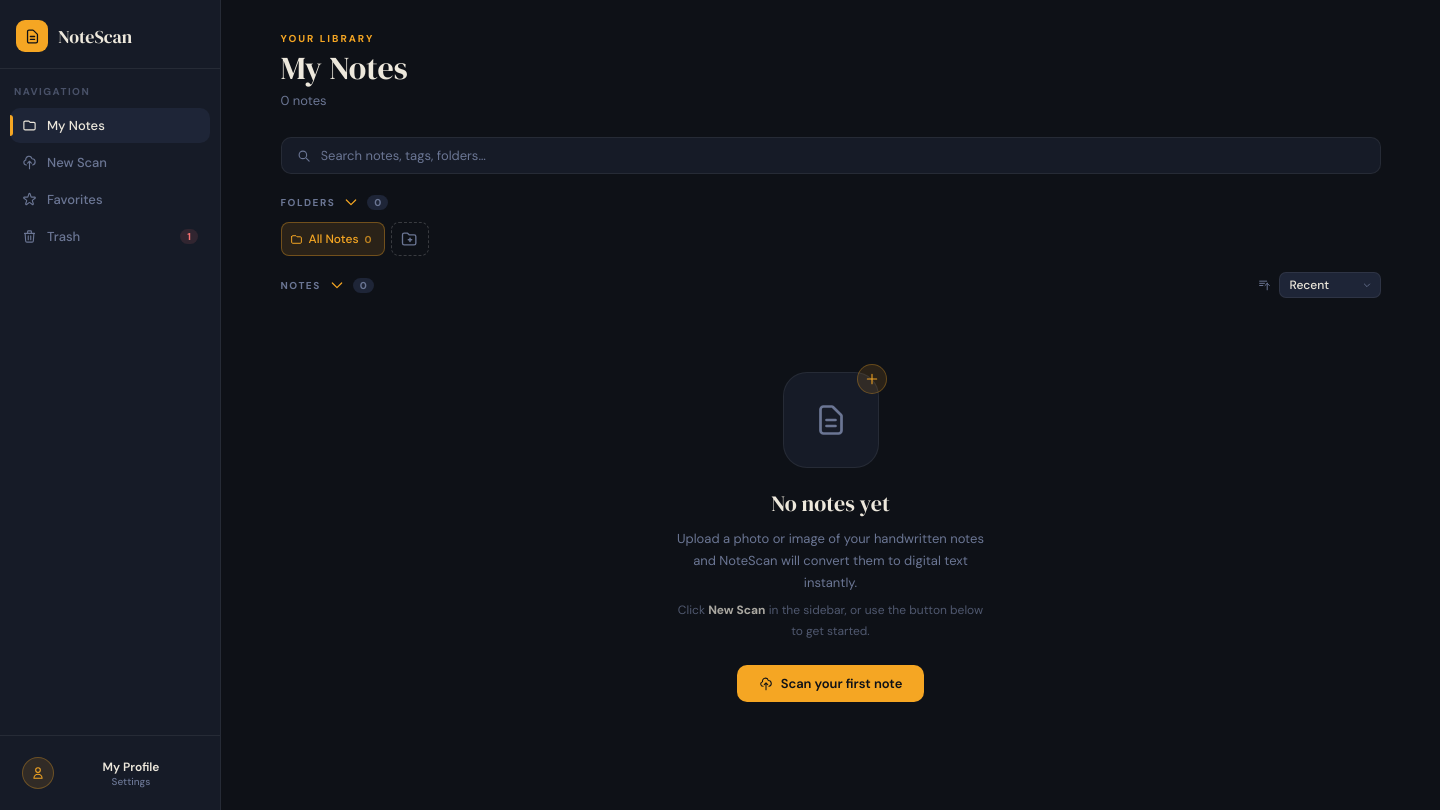
Test: Dashboard Integration › API failure → rollback › reverts permanent delete on API failure
This screenshot has width=1440, height=810.
Click the button "Trash 1" at point(110, 236), box [10,219,210,254]
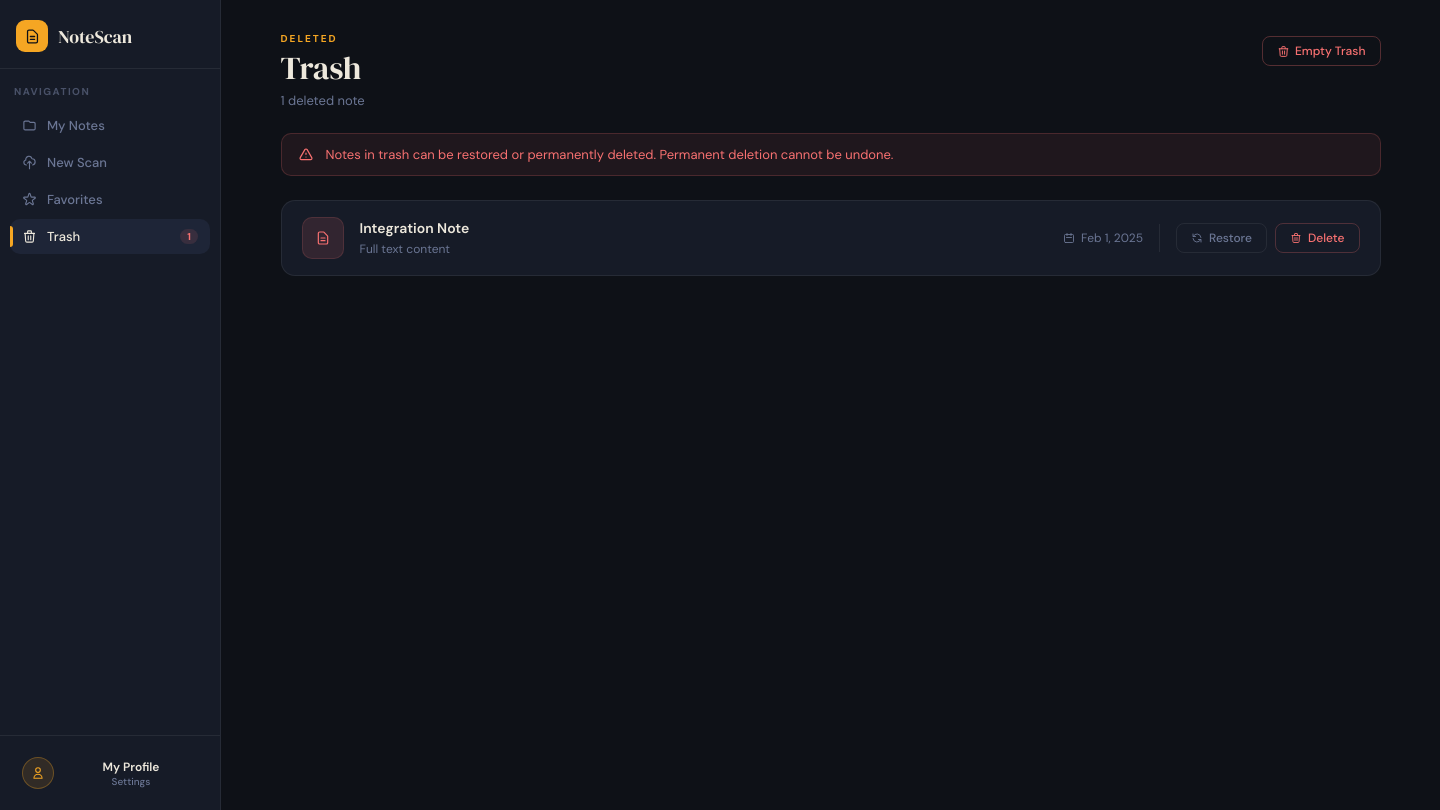
Click the button "Delete" at point(1317, 238), box [1275,223,1360,253]
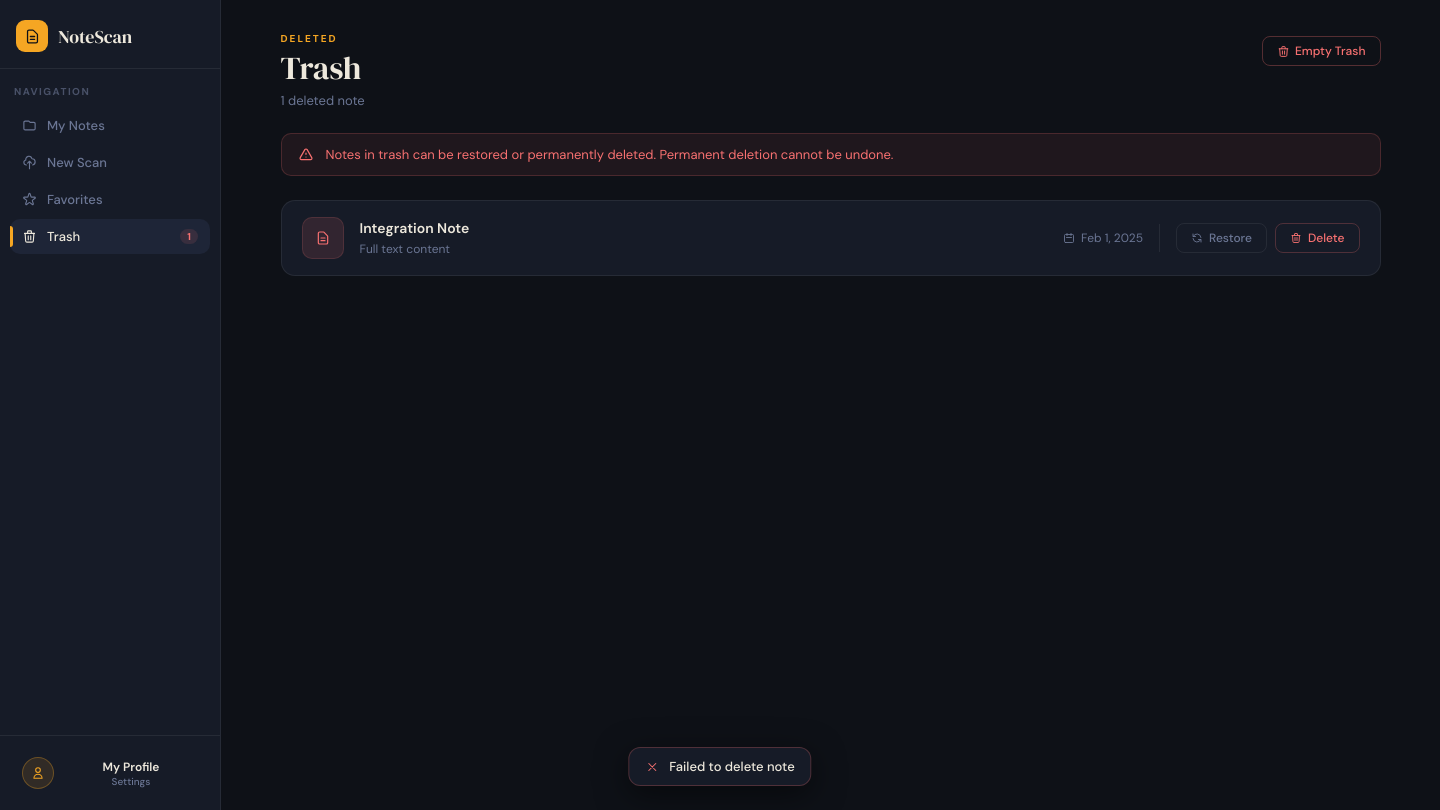
Result: the text "Integration Note" is shown at [360,219,469,237]
Result: the text "Failed to delete note" is shown at [669,758,795,775]
